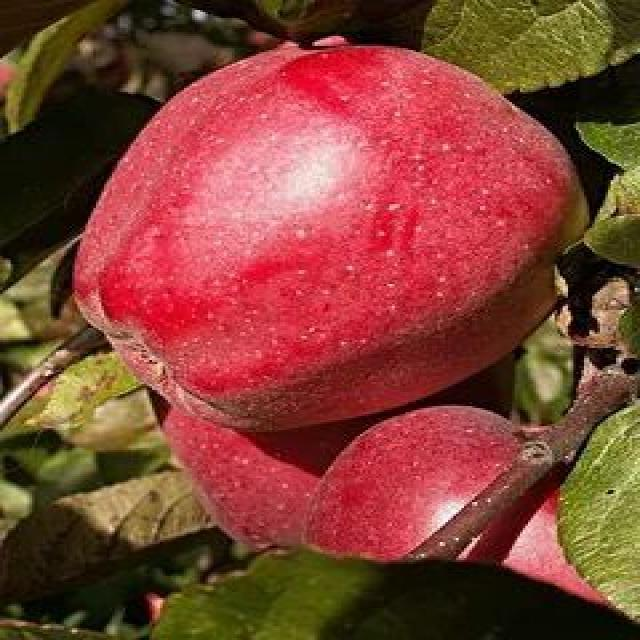Fresh Apple: (70, 34, 574, 450)
